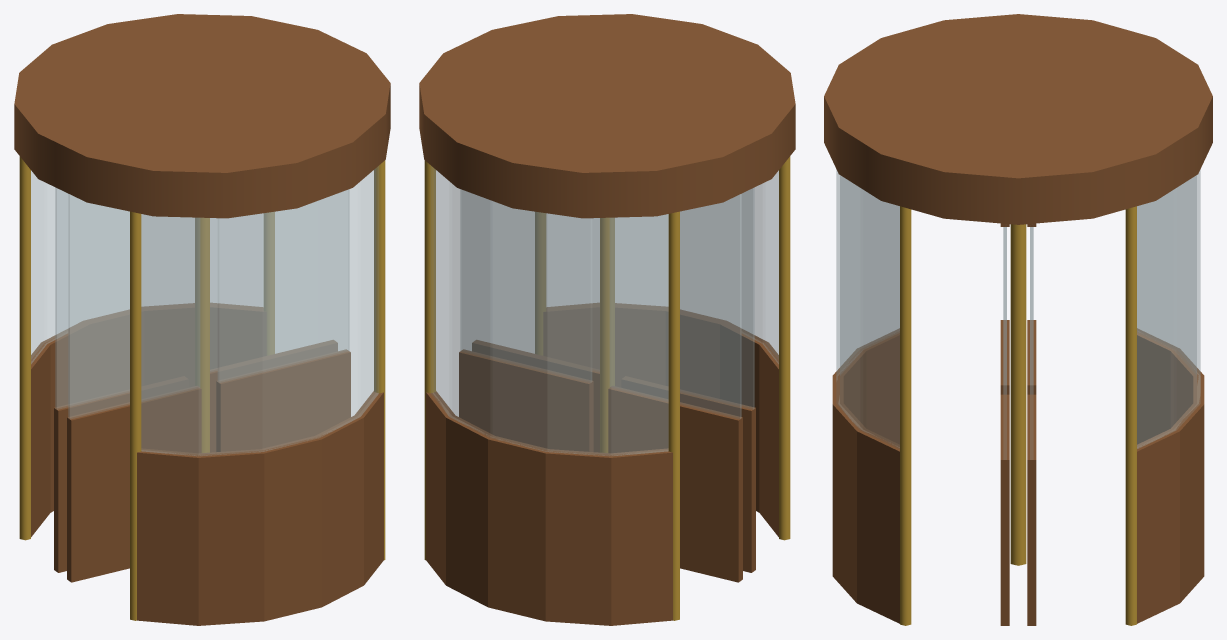
Rendered from parametric-revolving_door-service.glb.
3 renders of one model, left to right at view 1: azimuth 30°, elevation 25°; view 2: azimuth 150°, elevation 25°; view 3: azimuth 270°, elevation 25°, orthographic. The views are drawn at different scales.
Parts seen in each view (by area): view 1: parametric-revolving_door-service; view 2: parametric-revolving_door-service; view 3: parametric-revolving_door-service.
Boxes of the visible parts, <box> form: parametric-revolving_door-service: <box>14,14,390,625</box>; parametric-revolving_door-service: <box>419,14,795,625</box>; parametric-revolving_door-service: <box>824,14,1212,625</box>.
Bounding box in the file's own units: 1.74 × 2.3 × 1.74.
